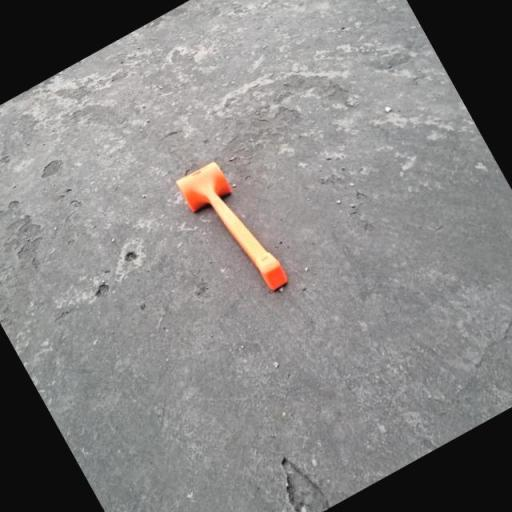mallet: (176, 156, 290, 306)
